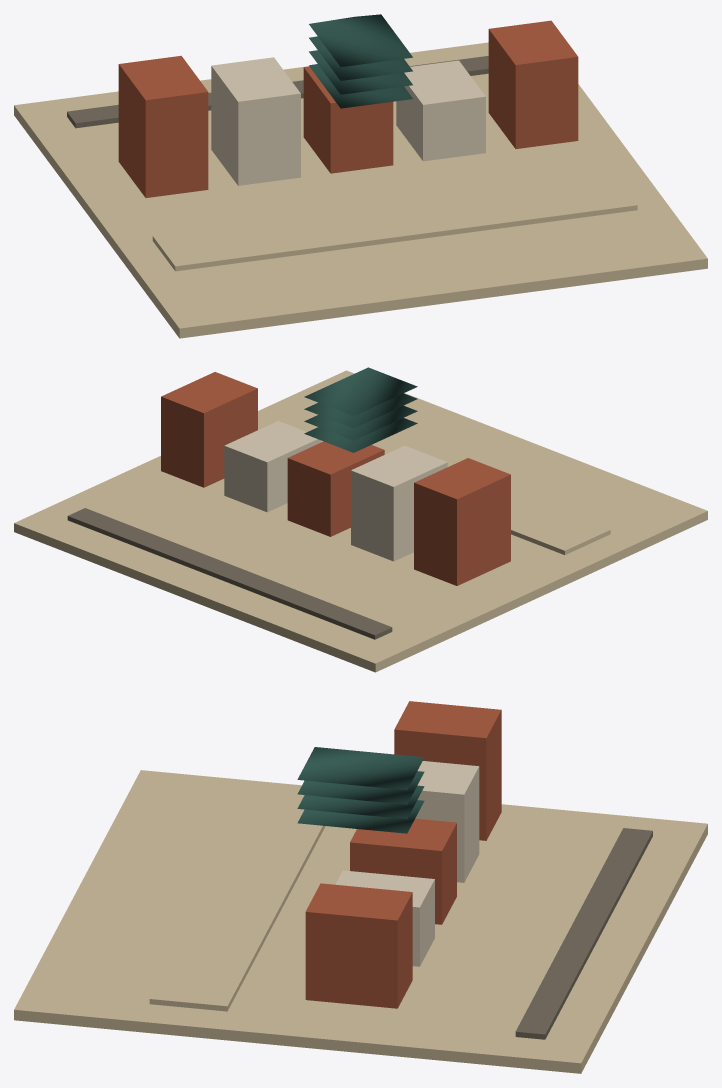
The model's file is model-medium.glb.
3 renders of one model, top to bottom at view 1: azimuth 30°, elevation 25°; view 2: azimuth 150°, elevation 25°; view 3: azimuth 270°, elevation 25°, orthographic. The views are drawn at different scales.
Visible parts, largest first — view 1: context_site_plinth, street_public_axis, street_facade_0, street_facade_4, street_facade_1, street_facade_3, street_facade_2, street_roof_0, front_scale_strip, street_roof_1, street_roof_2, street_roof_3; view 2: context_site_plinth, street_facade_0, street_facade_4, street_facade_1, front_scale_strip, street_facade_2, street_facade_3, street_public_axis, street_roof_0, street_roof_1, street_roof_2, street_roof_3; view 3: context_site_plinth, street_public_axis, street_facade_4, street_facade_0, front_scale_strip, street_facade_2, street_facade_1, street_roof_0, street_facade_3, street_roof_1, street_roof_2, street_roof_3.
Part boxes in pixels (x1,y1,x2,y2): context_site_plinth: (14,42,707,338); street_public_axis: (152,174,637,271); street_facade_0: (118,55,208,197); street_facade_4: (488,20,578,148); street_facade_1: (211,57,300,185); street_facade_3: (396,60,485,161); street_facade_2: (303,66,393,173); street_roof_0: (309,14,412,66); front_scale_strip: (67,56,488,128); street_roof_1: (309,30,412,80); street_roof_2: (309,50,412,94); street_roof_3: (309,64,412,108); context_site_plinth: (14,370,707,672); street_facade_0: (414,458,510,585); street_facade_4: (161,372,257,487); street_facade_1: (351,445,447,561); front_scale_strip: (67,508,392,639); street_facade_2: (287,441,384,536); street_facade_3: (224,421,321,512); street_public_axis: (258,407,610,554); street_roof_0: (304,367,417,416); street_roof_1: (304,393,417,428); street_roof_2: (304,405,417,440); street_roof_3: (304,418,417,452); context_site_plinth: (14,770,707,1073); street_public_axis: (149,789,325,1011); street_facade_4: (305,883,412,1008); street_facade_0: (394,701,501,840); front_scale_strip: (515,828,652,1039); street_facade_2: (350,818,456,924); street_facade_1: (415,761,479,882); street_roof_0: (297,747,424,790); street_facade_3: (335,870,434,966); street_roof_1: (297,771,424,804); street_roof_2: (297,785,424,819); street_roof_3: (297,800,424,833).
Size of the model in its own units: 9.55 by 2.67 by 9.55.
